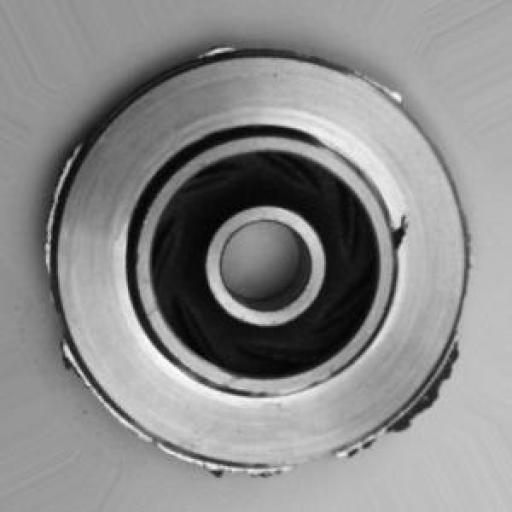defect: (33, 38, 487, 487)
